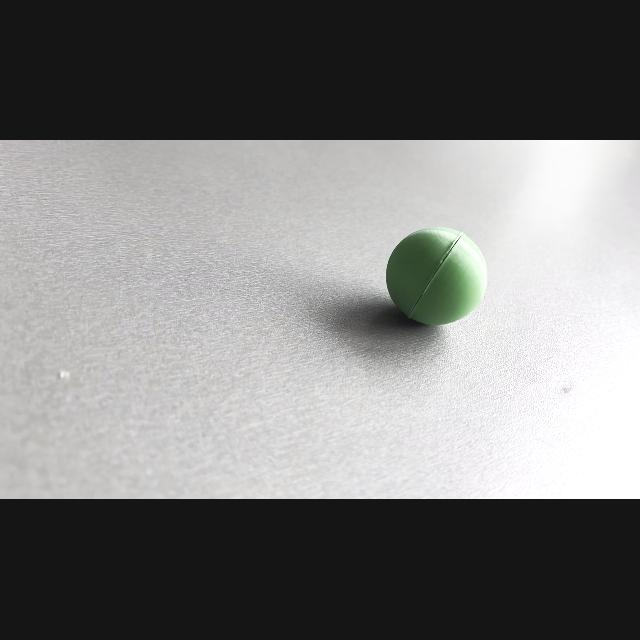objects: (376, 219, 492, 329)
